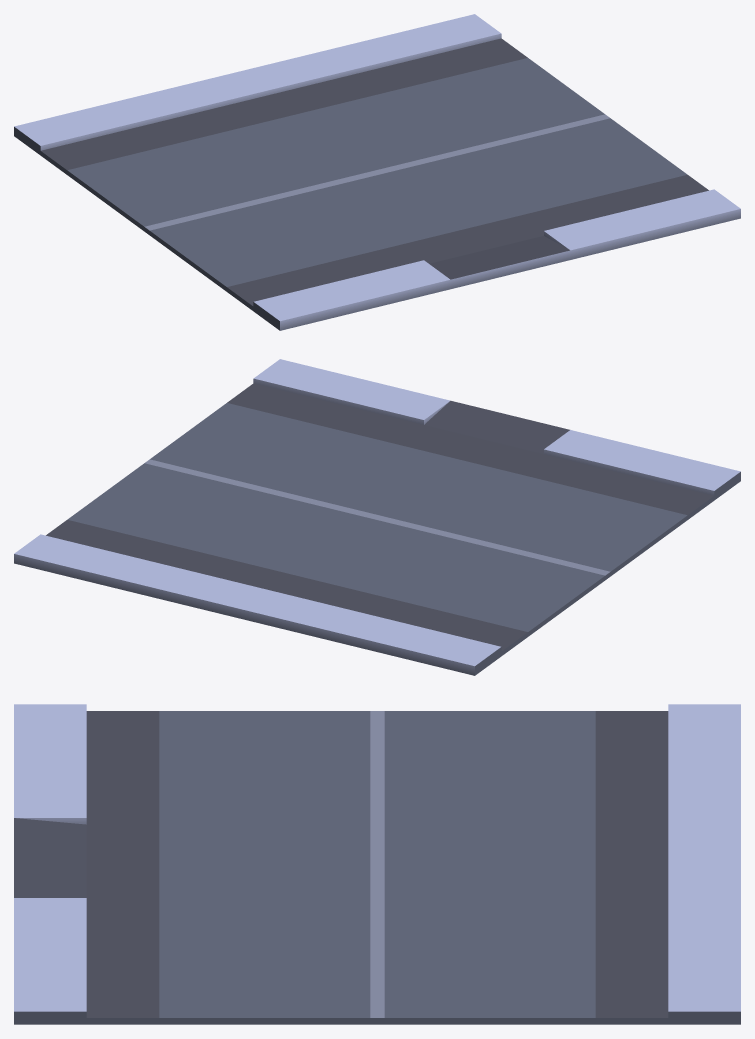
File: road-driveway-single.glb
The picture shows the model from 3 angles, top to bottom: view 1: azimuth 30°, elevation 25°; view 2: azimuth 150°, elevation 25°; view 3: azimuth 270°, elevation 25°; orthographic projection. The views are drawn at different scales.
Parts seen in each view (by area): view 1: road-driveway-single; view 2: road-driveway-single; view 3: road-driveway-single.
Part boxes in pixels (x1=…): road-driveway-single: x1=14, y1=14, x2=740, y2=330; road-driveway-single: x1=14, y1=359, x2=740, y2=675; road-driveway-single: x1=14, y1=704, x2=740, y2=1024.
Bounding box in the file's own units: 1 × 0.02 × 1.
1 material, 1 textured.
